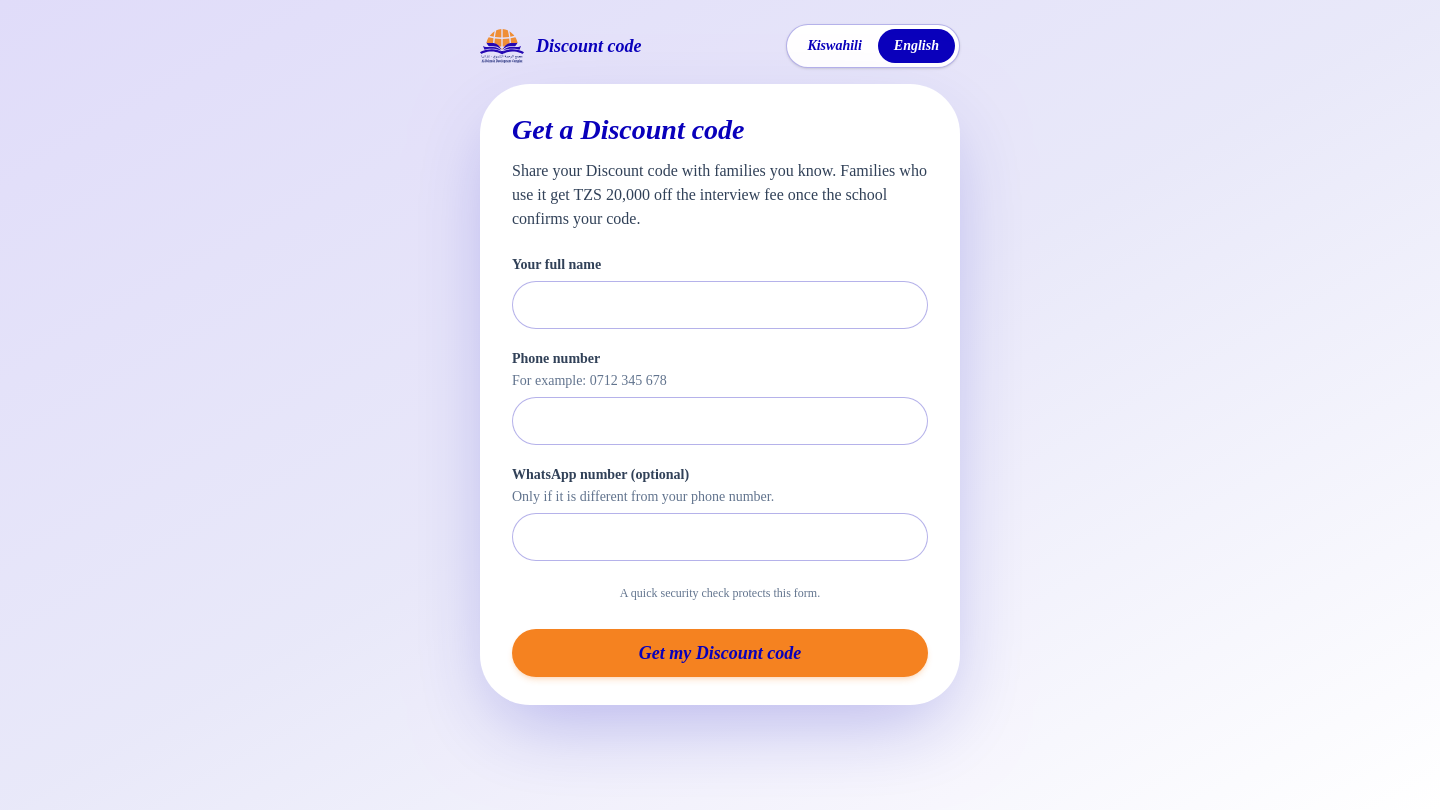
Test: the Discount code page › shows the English confirmation and share line in English
In the field labelled "Your full name": (720, 305) [512,281,928,329], type "Rehema Juma"
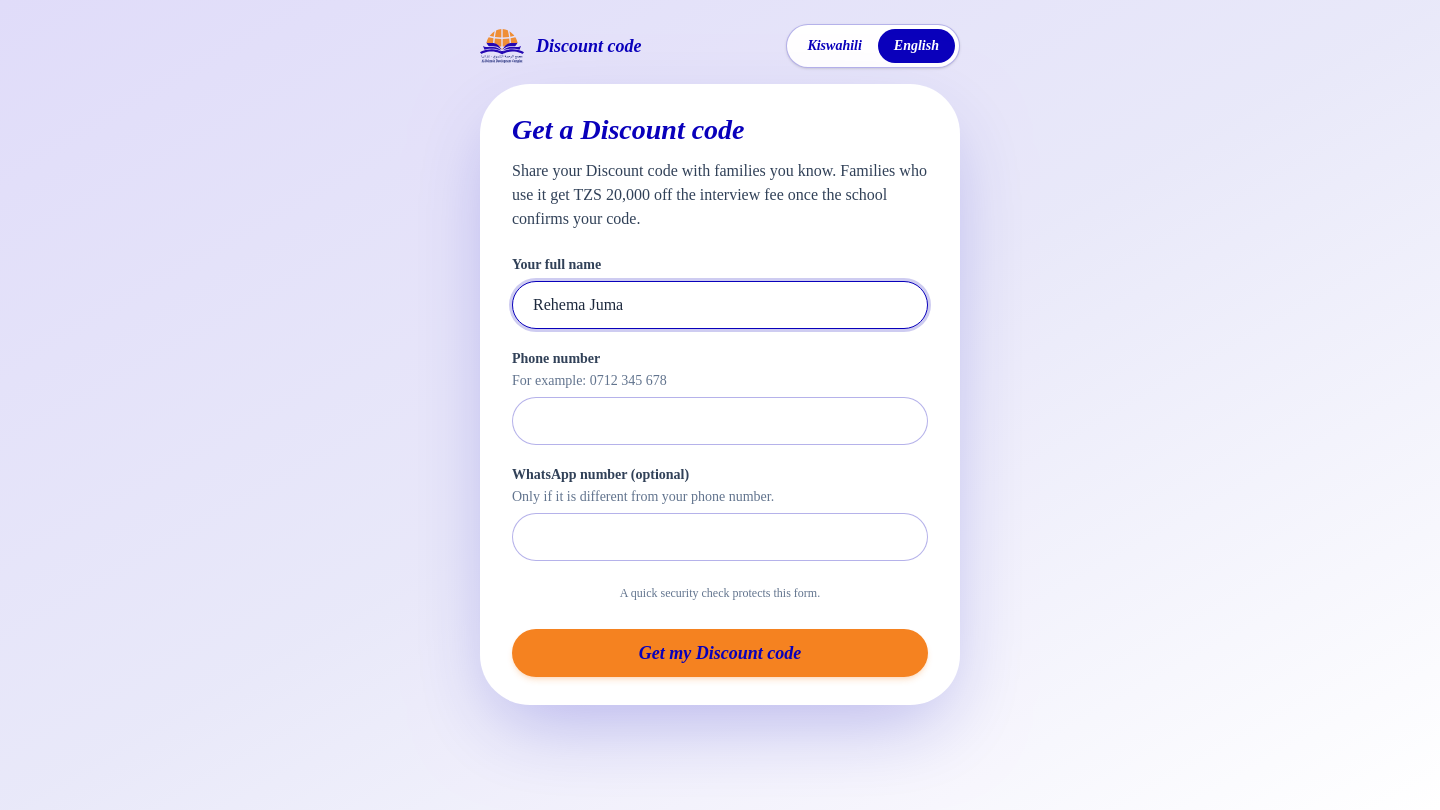
In the field labelled "Phone number": (720, 421) [512,397,928,445], type "0712 345 678"
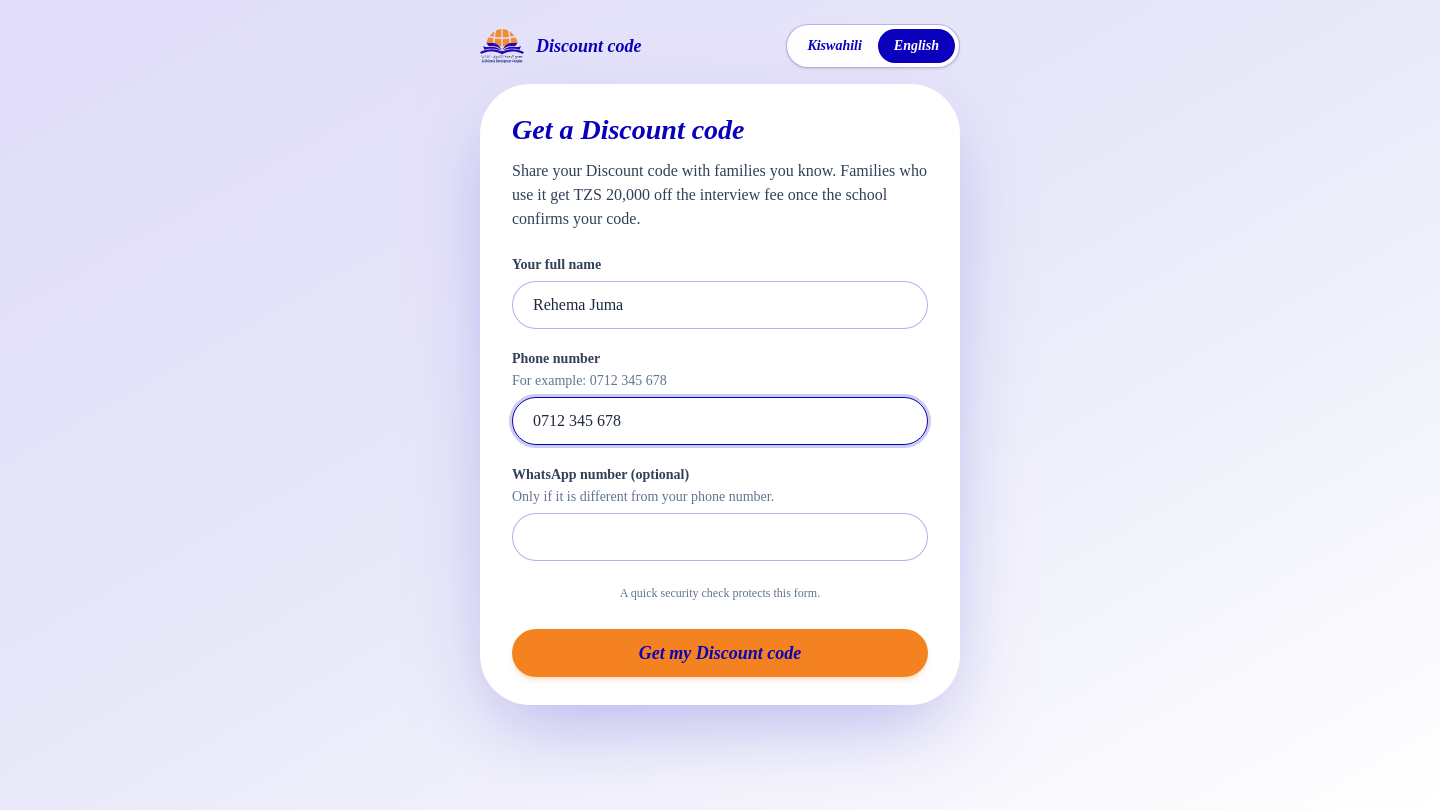
Click the button "Get my Discount code": (720, 653) [512,629,928,677]
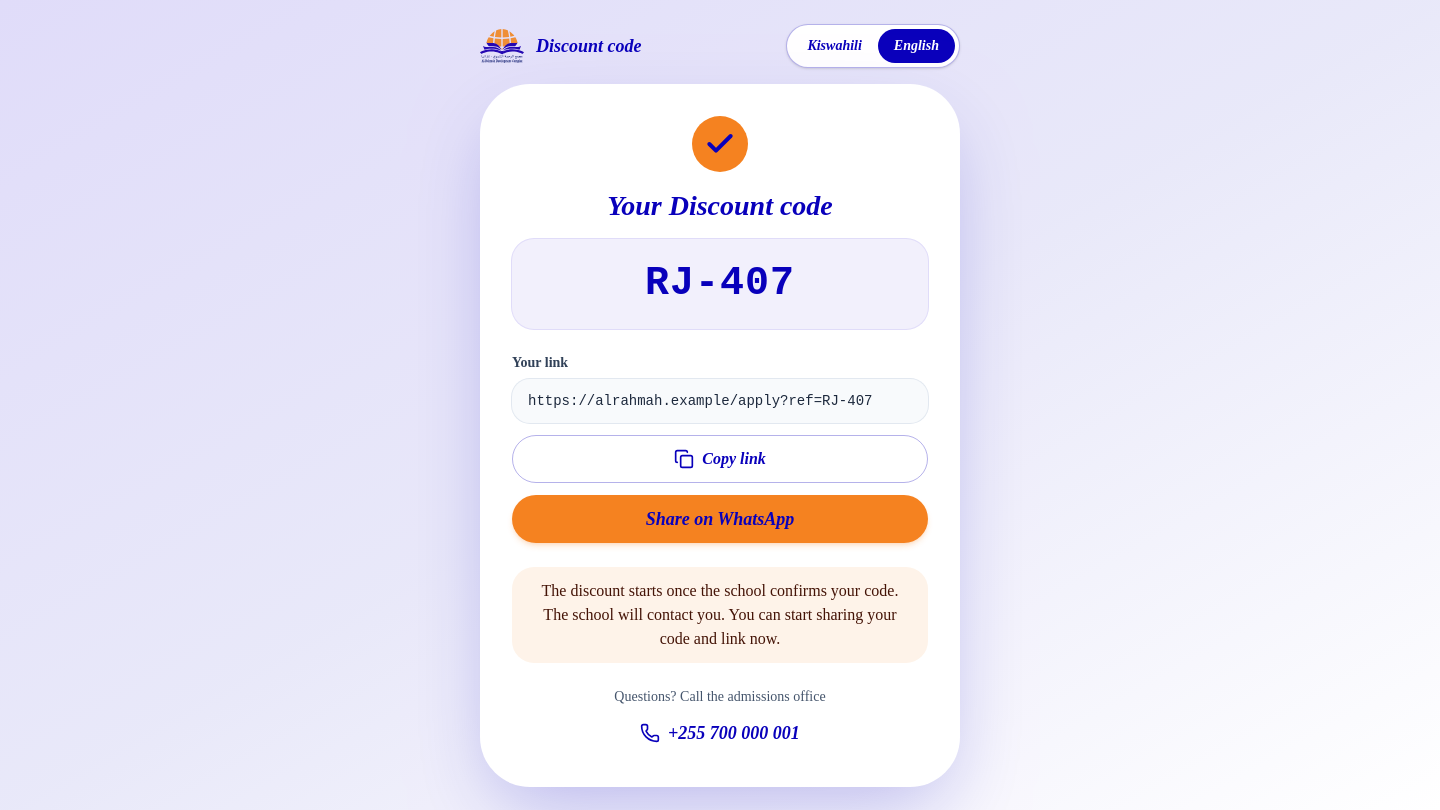
Expected: the heading "Your Discount code" is shown, [607,190,833,221]
Expected: the text "once the school confirms your code" shows "The school will contact you", [542,582,898,647]
